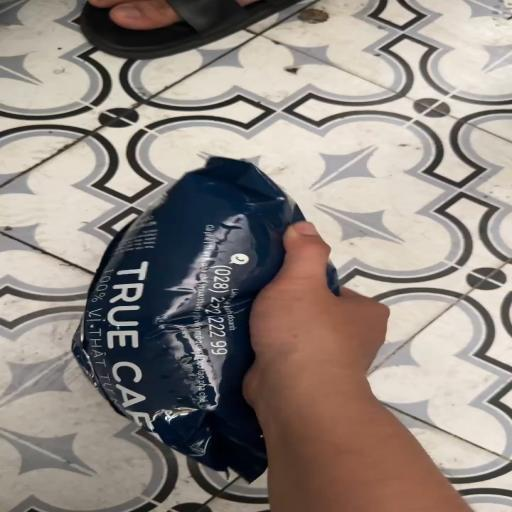cafe_hat: (72, 157, 304, 479)
